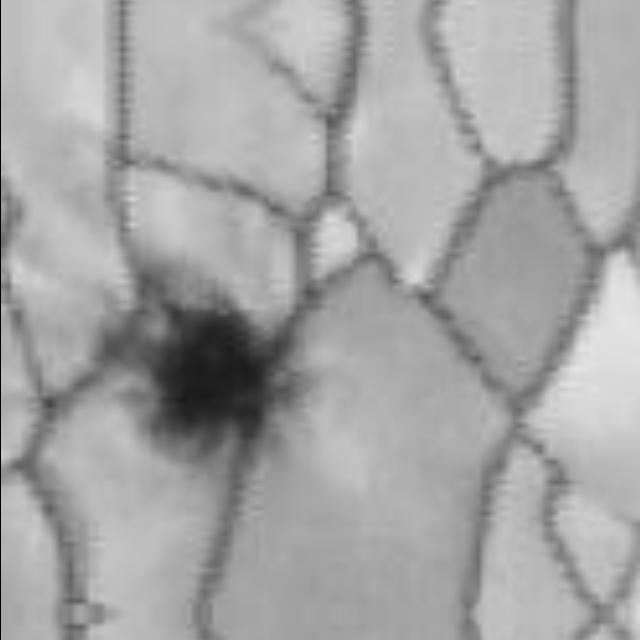good_void: (125, 294, 311, 462)
